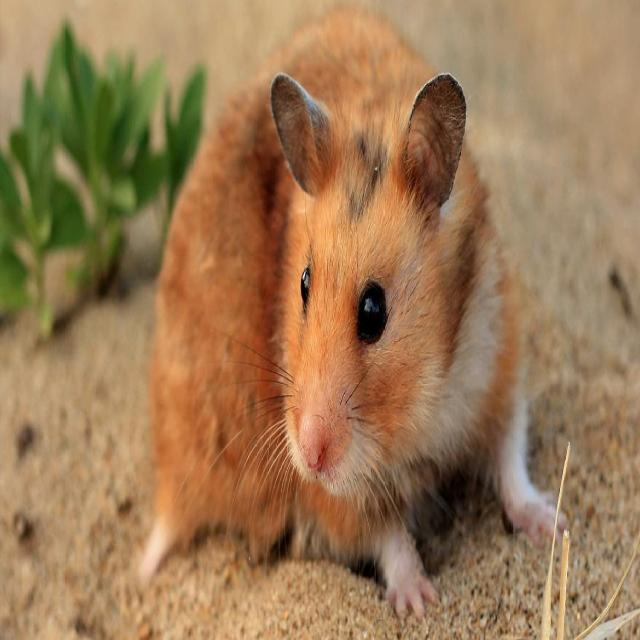hamster: (189, 87, 527, 568)
